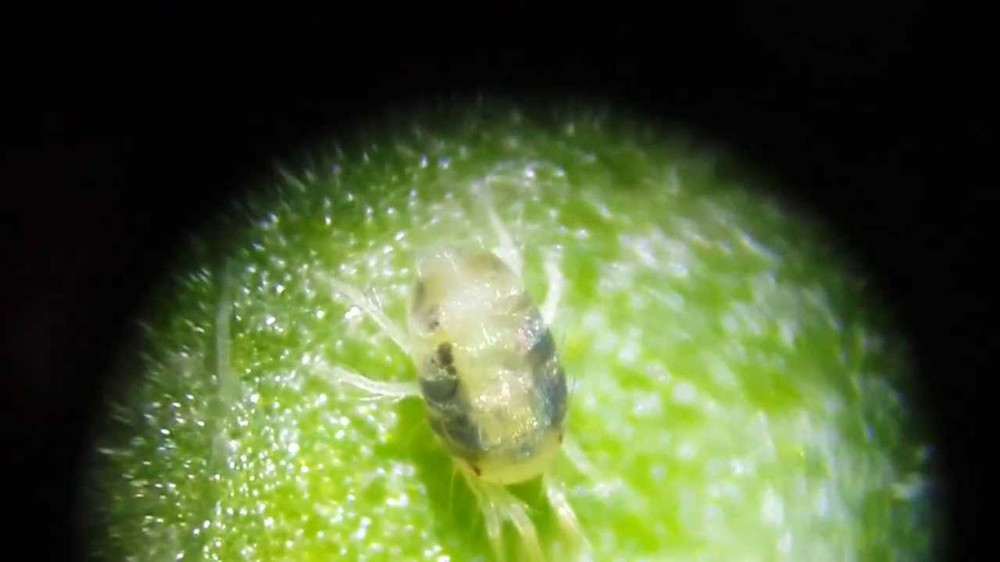Aracnido Rojo: (302, 194, 660, 558)
